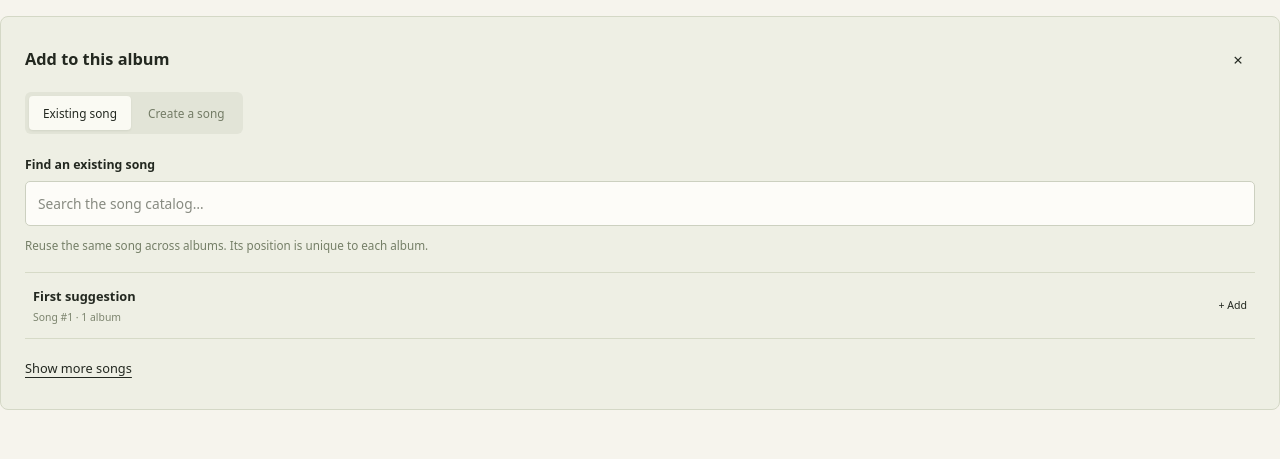
it: retries a failed next page without losing earlier suggestions or skipping results
The width and height of the screenshot is (1280, 459).
Click the button "Show more songs" at (78, 368), box left=25, top=351, right=132, bottom=385
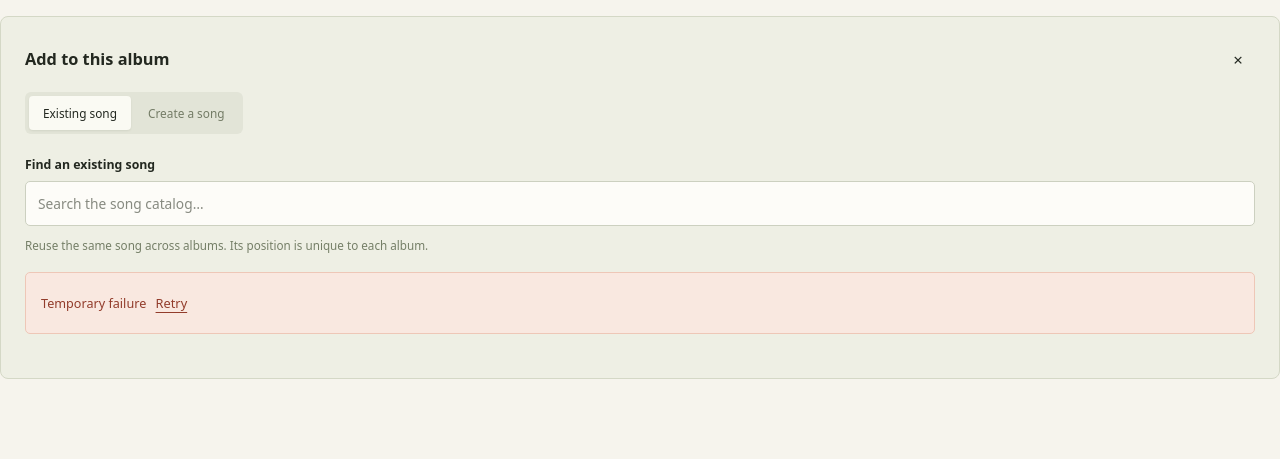
Click the button "Retry" at (171, 303), box left=156, top=285, right=187, bottom=321
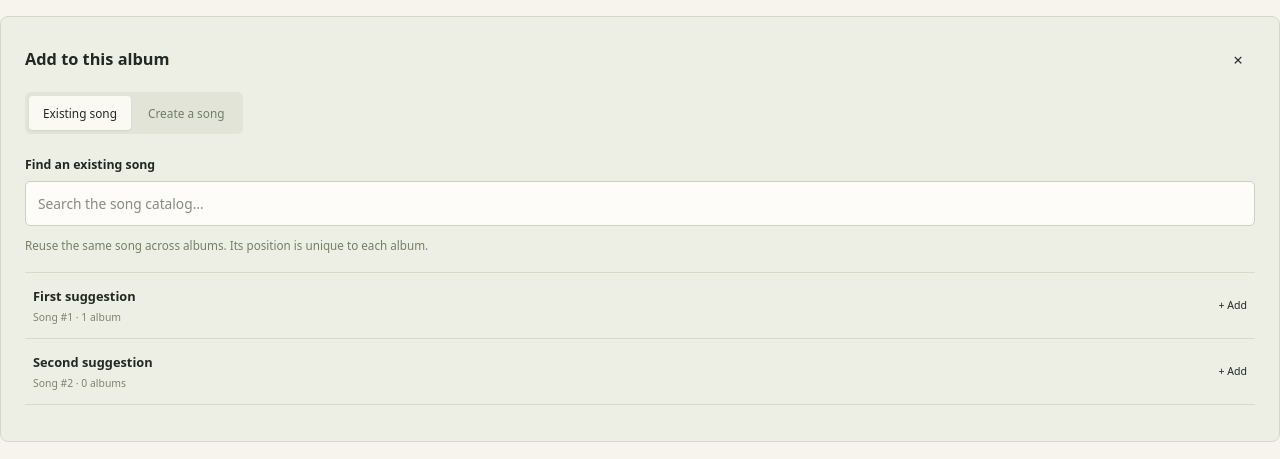
expect the text "First suggestion" is shown: met, box left=33, top=287, right=136, bottom=305
expect the text "Second suggestion" is shown: met, box left=33, top=353, right=153, bottom=371
